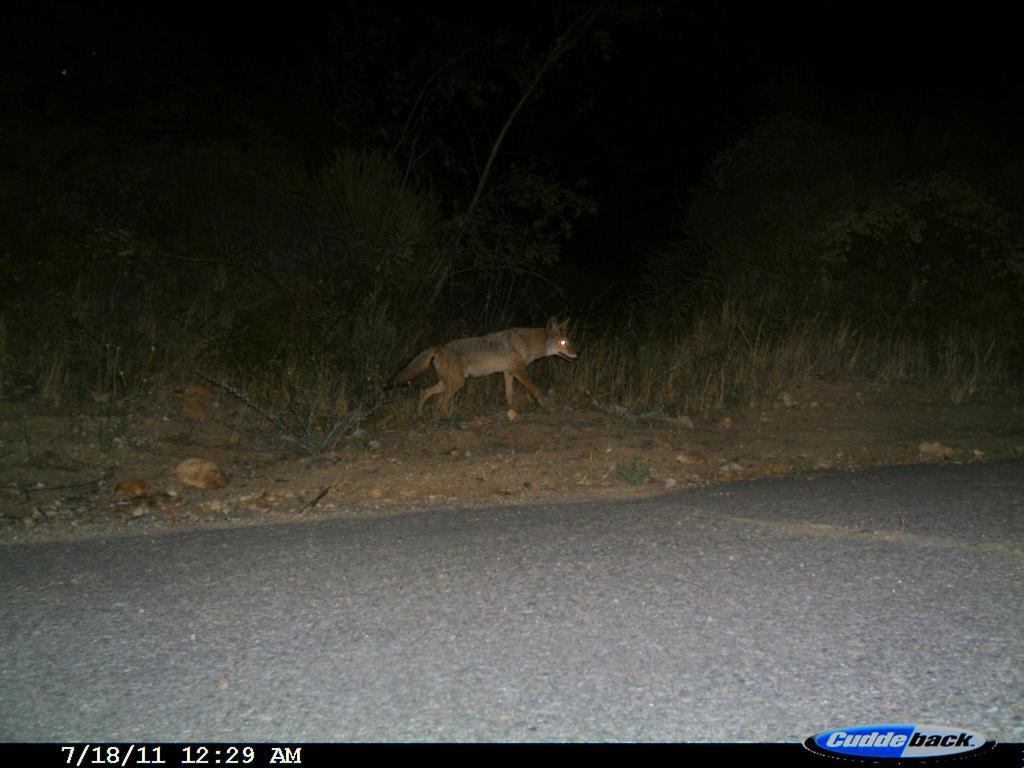coyote: (396, 310, 595, 422)
